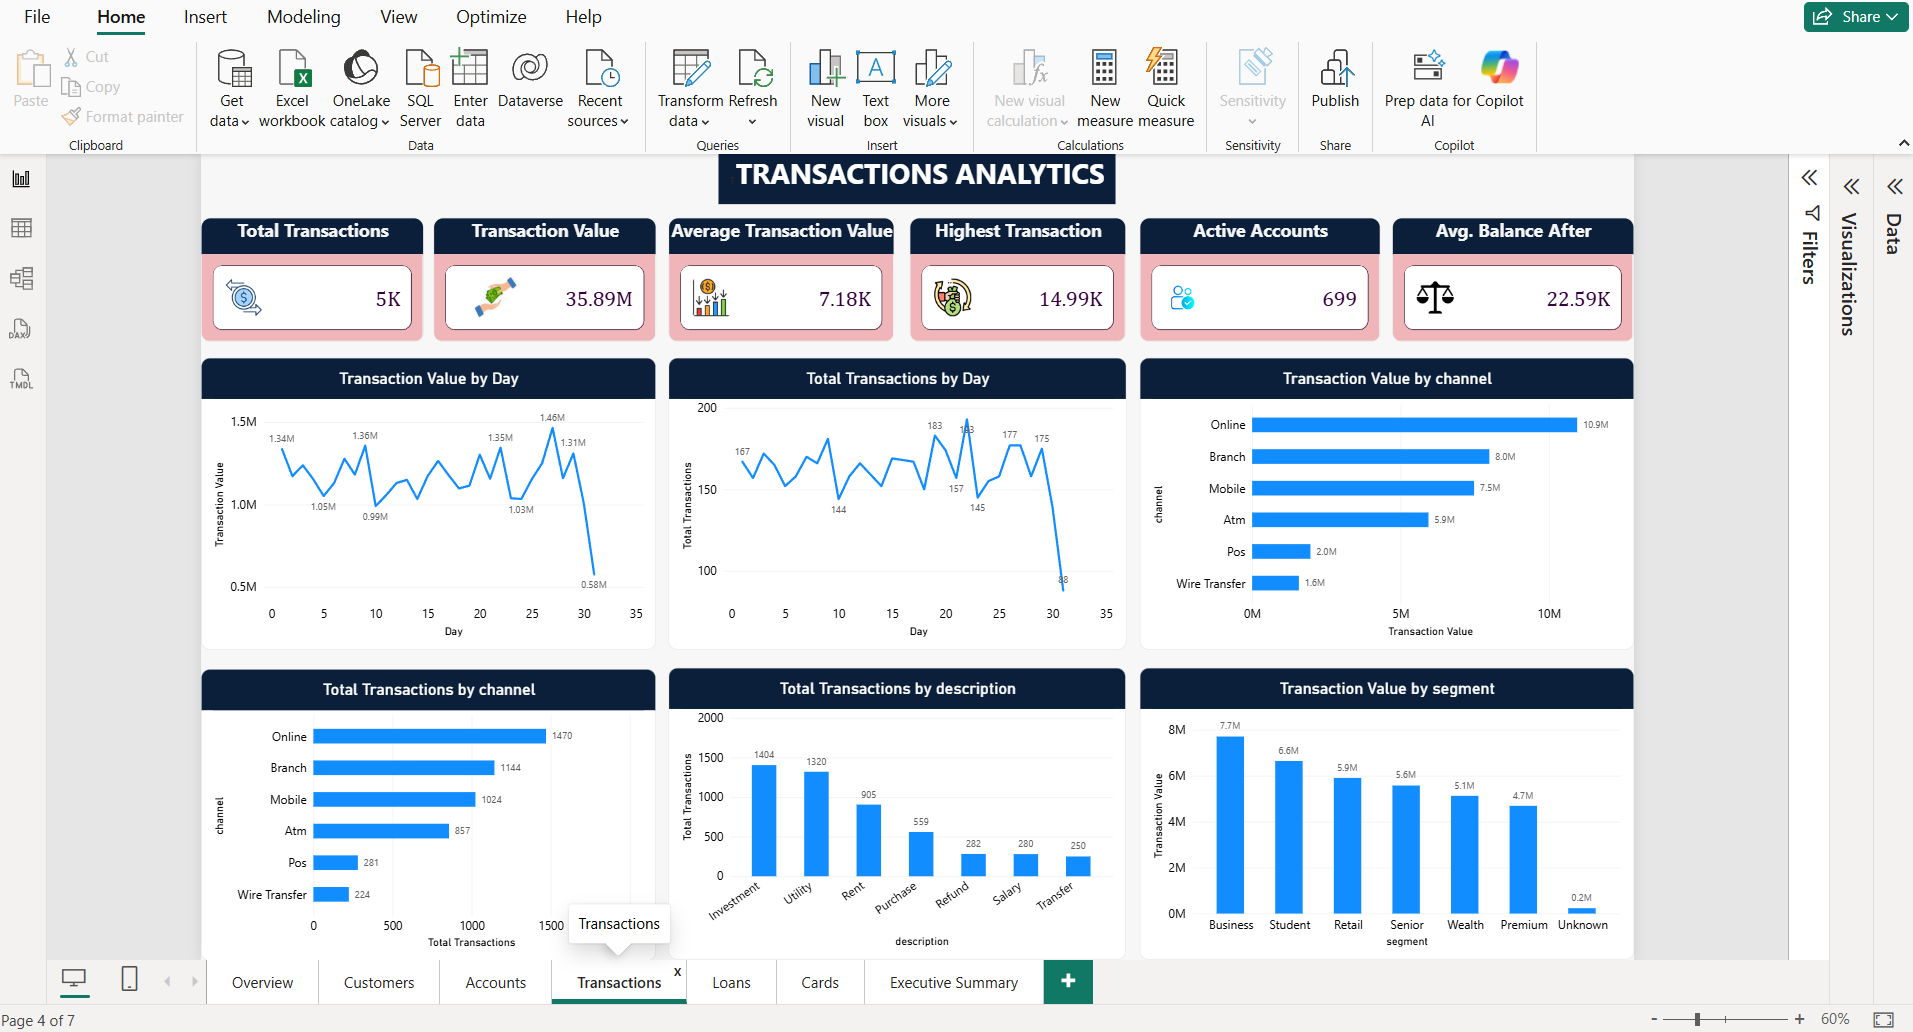

Layout of this report page (visuals, bound fields, positions):
{"tool":"powerbi","page":{"name":"Transactions","canvas":[1920,1080],"ordinal":3},"visuals":[{"type":"textbox","box":[693.1,0,532,67],"z":0},{"type":"cardVisual","title":"Total Transactions","fields":{"Data":["transactions.Total Transactions"]},"box":[0,85.1,298.6,166.5],"z":1000},{"type":"cardVisual","title":"Transaction Value","fields":{"Data":["transactions.Transaction Value"]},"box":[311.3,85.1,298.6,166.5],"z":2000},{"type":"cardVisual","title":"Average Transaction Value","fields":{"Data":["transactions.Average Transaction Value"]},"box":[626.1,85.1,302.2,166.5],"z":3000},{"type":"cardVisual","title":"Highest Transaction","fields":{"Data":["transactions.Highest Transaction"]},"box":[950.1,85.1,289.5,166.5],"z":4000},{"type":"cardVisual","title":"Active Accounts","fields":{"Data":["transactions.Active Transaction Accounts"]},"box":[1257.7,85.1,322.1,166.5],"z":5000},{"type":"cardVisual","title":"Avg. Balance After","fields":{"Data":["transactions.Average Balance After Transaction"]},"box":[1596.1,85.1,323.9,166.5],"z":6000},{"type":"lineChart","fields":{"Category":["date_table.Day"],"Y":["transactions.Transaction Value"]},"box":[0,273.3,609.9,390.9],"z":7000},{"type":"lineChart","fields":{"Category":["date_table.Day"],"Y":["transactions.Total Transactions"]},"box":[626.1,273.3,613.5,390.9],"z":8000},{"type":"clusteredBarChart","fields":{"Category":["transactions.channel"],"Y":["transactions.Transaction Value"]},"box":[1257.7,273.3,662.3,390.9],"z":9000},{"type":"clusteredBarChart","fields":{"Category":["transactions.channel"],"Y":["transactions.Total Transactions"]},"box":[0,689.5,609.9,390.9],"z":10000},{"type":"columnChart","fields":{"Category":["transactions.description"],"Y":["transactions.Total Transactions"]},"box":[626,689,613,391],"z":11000},{"type":"clusteredColumnChart","fields":{"Category":["customers.segment"],"Y":["transactions.Transaction Value"]},"box":[1258,689,662,391],"z":12000}]}

Visuals, with their boxes on the page's 1920x1080 design canvas (x1, y1, x2, y2). These are canvas units, not pixel positions in the 1913x1032 screenshot, which may show the page scaled, cropped or inside an application window:
textbox: {"left": 693, "top": 0, "right": 1225, "bottom": 67}
"Total Transactions" cardVisual: {"left": 0, "top": 85, "right": 299, "bottom": 252}
"Transaction Value" cardVisual: {"left": 311, "top": 85, "right": 610, "bottom": 252}
"Average Transaction Value" cardVisual: {"left": 626, "top": 85, "right": 928, "bottom": 252}
"Highest Transaction" cardVisual: {"left": 950, "top": 85, "right": 1240, "bottom": 252}
"Active Accounts" cardVisual: {"left": 1258, "top": 85, "right": 1580, "bottom": 252}
"Avg. Balance After" cardVisual: {"left": 1596, "top": 85, "right": 1920, "bottom": 252}
lineChart - date_table.Day x transactions.Transaction Value: {"left": 0, "top": 273, "right": 610, "bottom": 664}
lineChart - date_table.Day x transactions.Total Transactions: {"left": 626, "top": 273, "right": 1240, "bottom": 664}
clusteredBarChart - transactions.channel x transactions.Transaction Value: {"left": 1258, "top": 273, "right": 1920, "bottom": 664}
clusteredBarChart - transactions.channel x transactions.Total Transactions: {"left": 0, "top": 690, "right": 610, "bottom": 1080}
columnChart - transactions.description x transactions.Total Transactions: {"left": 626, "top": 689, "right": 1239, "bottom": 1080}
clusteredColumnChart - customers.segment x transactions.Transaction Value: {"left": 1258, "top": 689, "right": 1920, "bottom": 1080}
